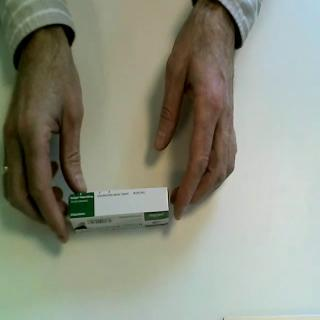nobligan_retard200mg: (67, 186, 171, 236)
